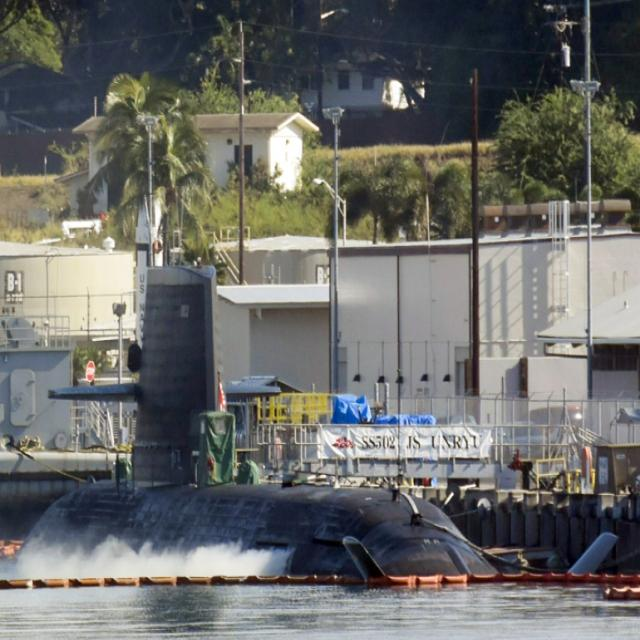submarine: (23, 269, 621, 579)
